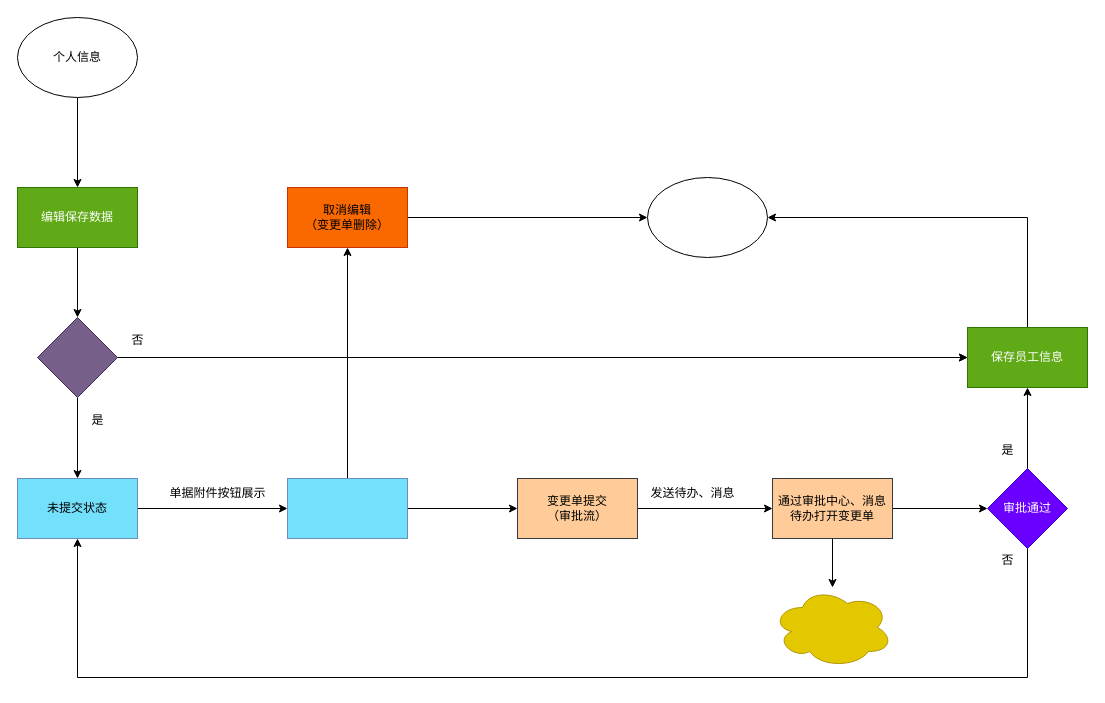
The diagram is 1105 pixels wide and 703 high, and some of its shapes have lost their labels. Each missing label, with the box of its shape:
单据附件上传: (286, 478, 408, 538)
是否配置 审批流: (36, 316, 118, 398)
结束: (646, 176, 768, 258)
这里展示只读的单据审批附件: (772, 586, 892, 668)
